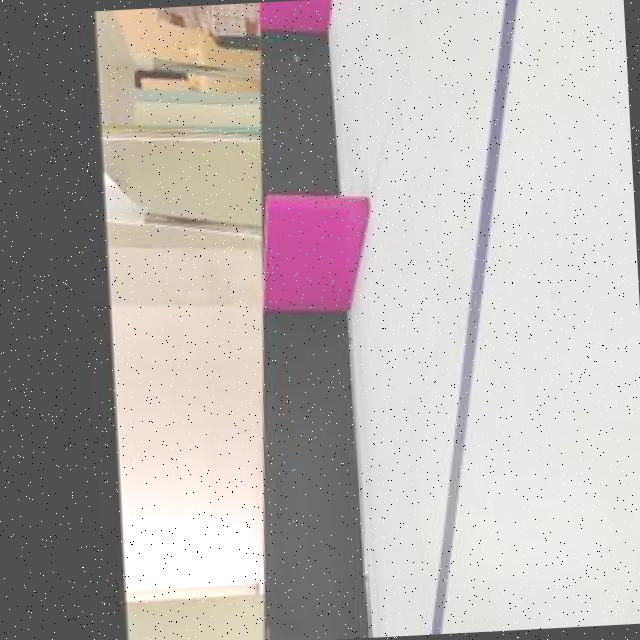xparking: (259, 196, 368, 309), (258, 0, 325, 27)
